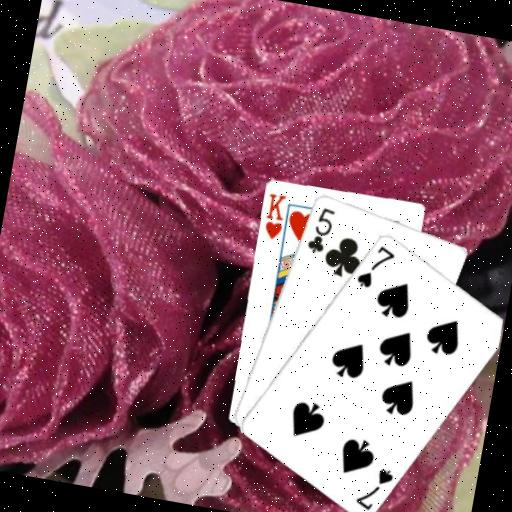5C: (303, 201, 337, 256)
7S: (352, 238, 397, 293), (350, 460, 395, 512)
KH: (259, 189, 289, 242)
